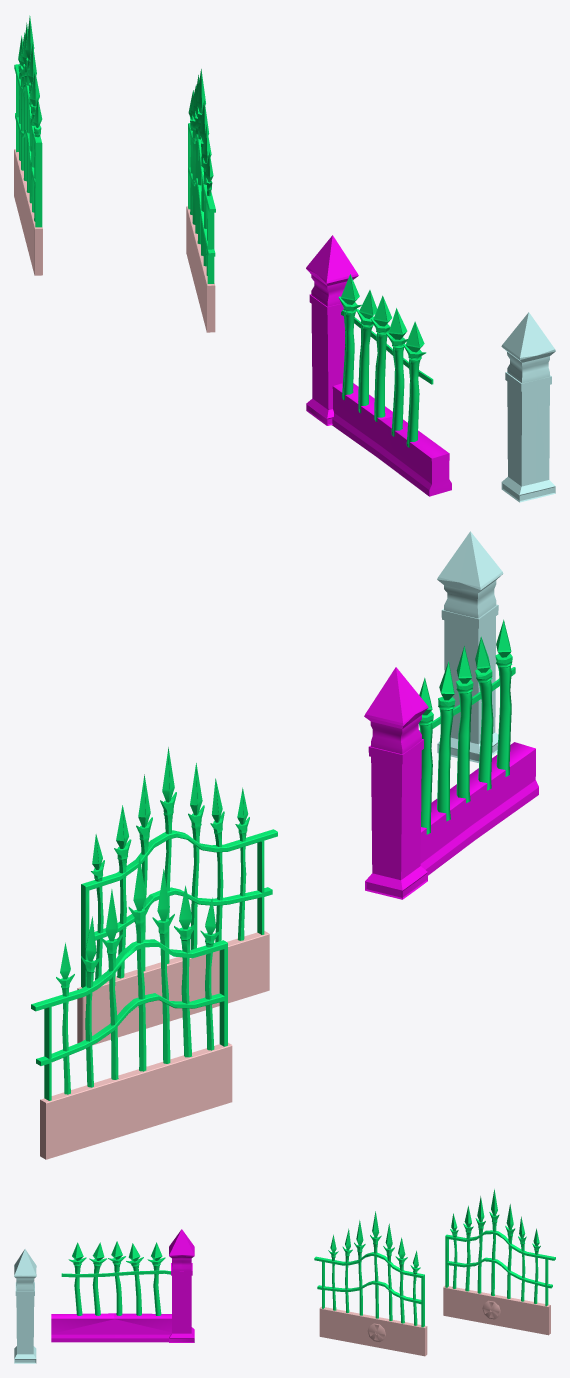
Rendered from modular_cimetiere.glb.
The picture shows the model from 3 angles, top to bottom: view 1: azimuth 30°, elevation 25°; view 2: azimuth 150°, elevation 25°; view 3: azimuth 270°, elevation 25°; orthographic projection. The views are drawn at different scales.
Visible parts, largest first — view 1: barriere006.001, colonnesbarriere001.001, Object106.001, piquegauche.001, piquegauche, Object109, Object108; view 2: barriere006.001, piquegauche, Object108, piquegauche.001, Object106.001, Object109, colonnesbarriere001.001; view 3: barriere006.001, piquegauche, piquegauche.001, Object109, Object108, Object106.001, colonnesbarriere001.001.
Part boxes in pixels (bbox=[...]): barriere006.001: bbox=[306, 235, 451, 496]; colonnesbarriere001.001: bbox=[501, 312, 555, 502]; Object106.001: bbox=[338, 274, 433, 447]; piquegauche.001: bbox=[188, 69, 215, 283]; piquegauche: bbox=[14, 15, 42, 227]; Object109: bbox=[186, 206, 215, 332]; Object108: bbox=[14, 149, 42, 275]; barriere006.001: bbox=[364, 667, 538, 899]; piquegauche: bbox=[31, 856, 227, 1100]; Object108: bbox=[40, 1042, 232, 1159]; piquegauche.001: bbox=[81, 747, 277, 987]; Object106.001: bbox=[418, 619, 515, 834]; Object109: bbox=[77, 931, 269, 1045]; colonnesbarriere001.001: bbox=[437, 531, 503, 762]; barriere006.001: bbox=[51, 1229, 194, 1342]; piquegauche: bbox=[445, 1189, 555, 1306]; piquegauche.001: bbox=[314, 1211, 424, 1327]; Object109: bbox=[319, 1306, 427, 1356]; Object108: bbox=[443, 1285, 550, 1335]; Object106.001: bbox=[61, 1241, 170, 1315]; colonnesbarriere001.001: bbox=[14, 1249, 36, 1363].
Bounding box in the file's own units: 3.71 × 4.76 × 17.06.
